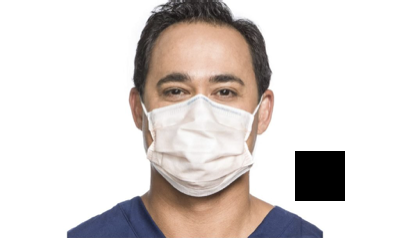with_mask: (143, 67, 257, 195)
